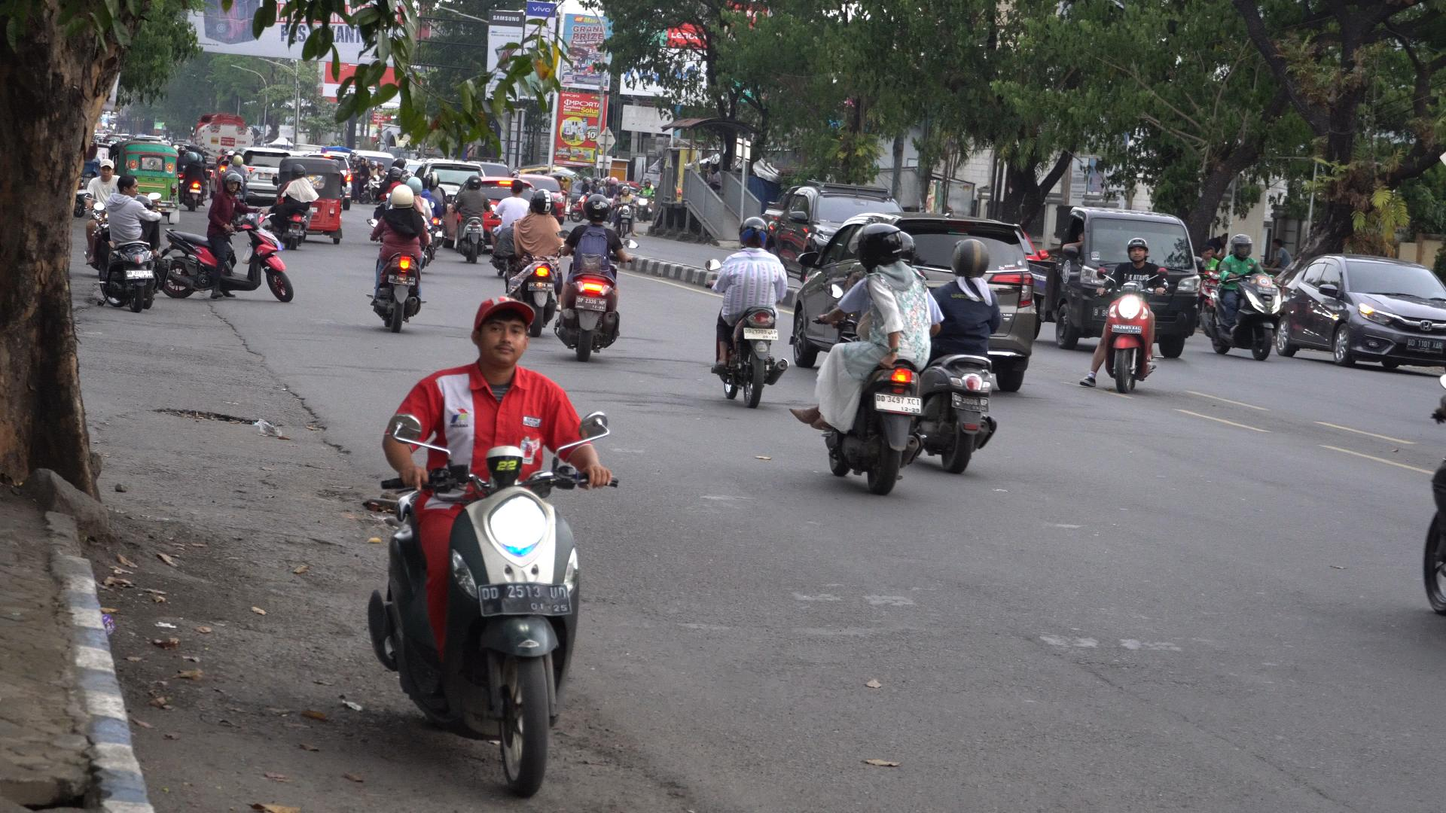number-plate: (478, 582, 576, 617)
